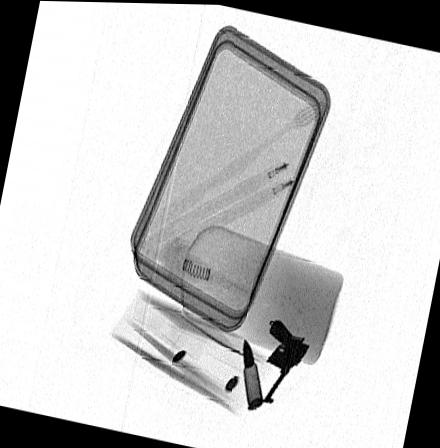Bullet: (241, 334, 262, 407)
Gun: (261, 317, 310, 402)
